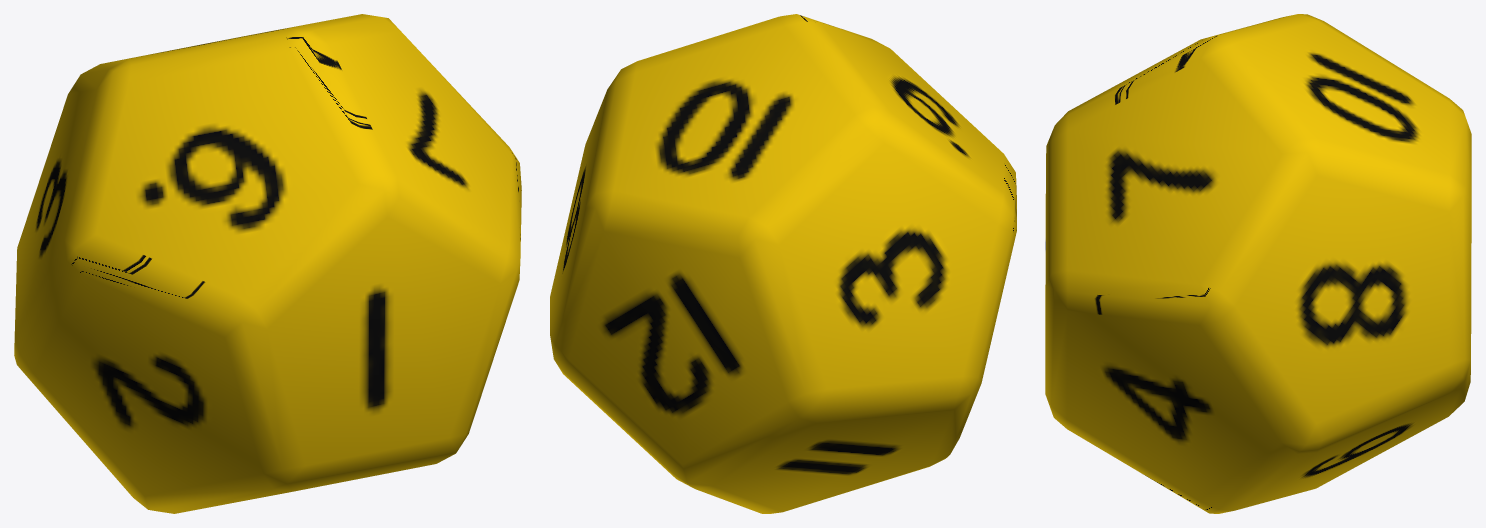
3 renders of one model, left to right at view 1: azimuth 30°, elevation 25°; view 2: azimuth 150°, elevation 25°; view 3: azimuth 270°, elevation 25°, orthographic. The views are drawn at different scales.
Visible parts, largest first — view 1: Twelve_sided_cube_pivot.003; view 2: Twelve_sided_cube_pivot.003; view 3: Twelve_sided_cube_pivot.003.
Boxes of the visible parts, box(x1,y1,x2,y2) form: Twelve_sided_cube_pivot.003: box(14, 14, 521, 513); Twelve_sided_cube_pivot.003: box(550, 14, 1016, 513); Twelve_sided_cube_pivot.003: box(1045, 14, 1471, 513).
Size of the model in its own units: 2.01 by 2.07 by 1.75.
1 material, 1 textured.
